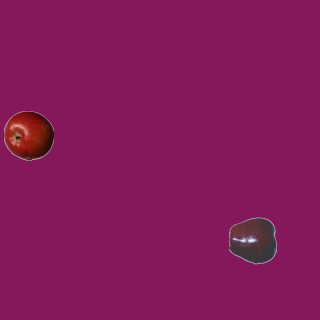Apple Braeburn: (3, 110, 53, 160)
Apple Red Delicious: (228, 215, 278, 265)
